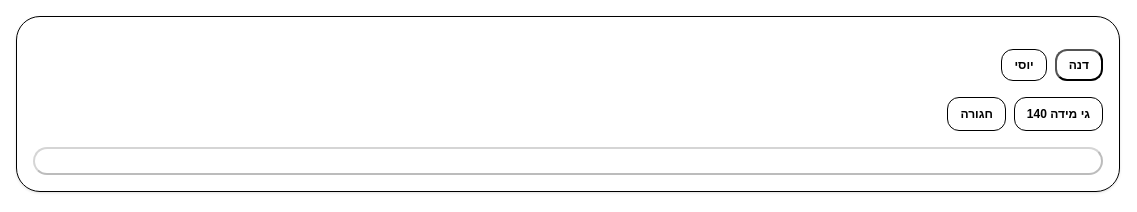
Test: 11a — handing an item over › disables confirm while the charge is in flight
Click the button with test id "handout-option" showing "גי מידה 140" at (1058, 114), box [1014, 97, 1103, 131]
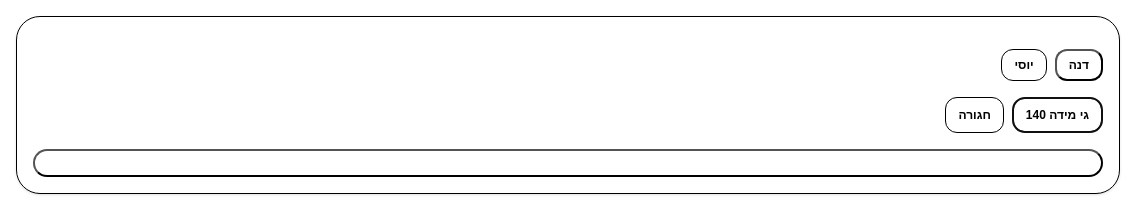
Click the button with test id "hand-over-confirm" at (568, 163), box [33, 149, 1103, 177]
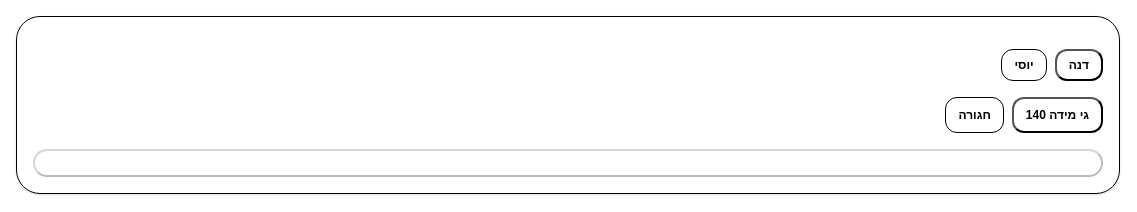
Expected: the button with test id "hand-over-confirm" is disabled, [33, 149, 1103, 177]
